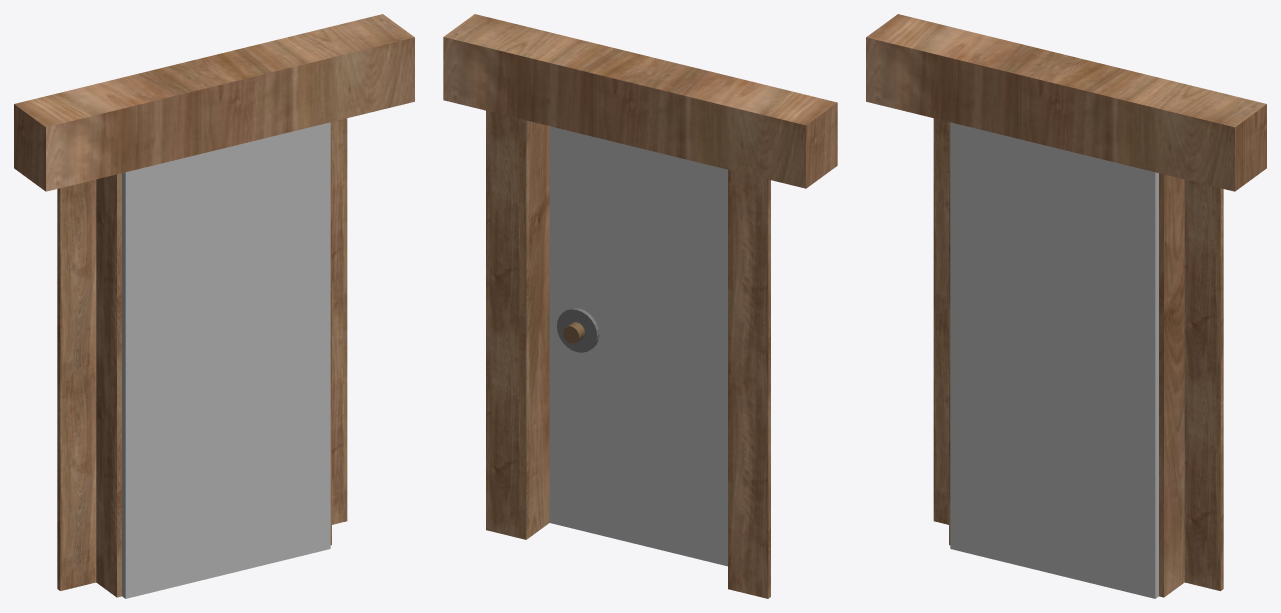
File: plain_door.fbx
3 views of the same model, side by side, from view 1: azimuth 30°, elevation 25°; view 2: azimuth 150°, elevation 25°; view 3: azimuth 330°, elevation 25° (orthographic).
Parts seen in each view (by area): view 1: door_2, lintel, door_1; view 2: door_2, lintel, door_1, metal; view 3: door_2, lintel, door_1.
Part boxes in pixels (box(x1,y1,x2,y2)): door_2: box(122, 122, 330, 598); lintel: box(14, 14, 414, 545); door_1: box(57, 118, 347, 597); door_2: box(549, 126, 727, 566); lintel: box(443, 14, 837, 539); door_1: box(486, 110, 770, 598); metal: box(557, 307, 599, 352); door_2: box(950, 122, 1158, 598); lintel: box(866, 14, 1266, 597); door_1: box(933, 118, 1223, 590).
Size of the model in its own units: 5.91 by 0.8858 by 7.55.
